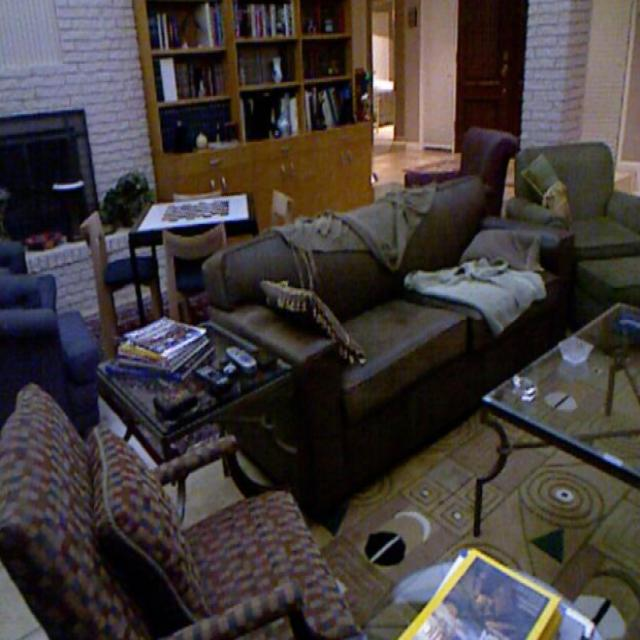a sofa: (229, 165, 552, 423), (14, 404, 338, 632), (525, 137, 640, 320)
beside table: (143, 6, 370, 211)
chair: (75, 204, 162, 335), (150, 214, 228, 306)
door: (457, 12, 525, 143)
table: (478, 322, 640, 510), (107, 310, 306, 455), (136, 180, 267, 247)
